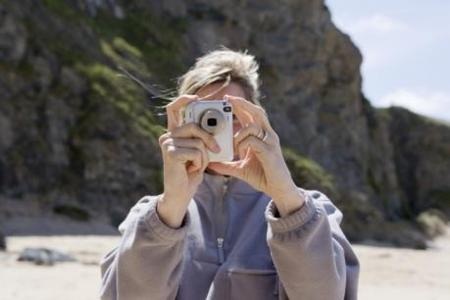person: (100, 48, 362, 300)
